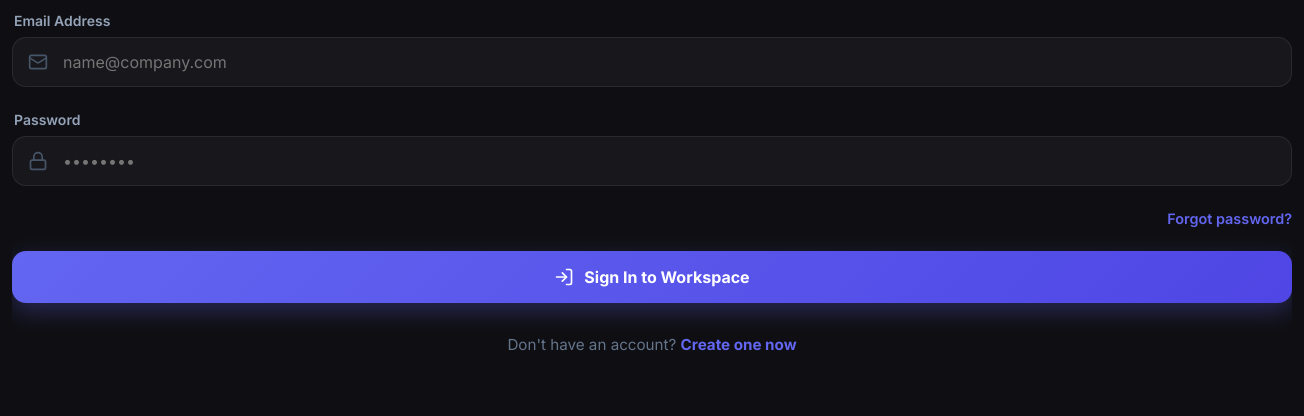
Test case: LoginPage › shows required errors when both fields are empty and form is submitted
Click the button "Sign In to Workspace" at point(652, 277), box 12,251 -> 1292,303
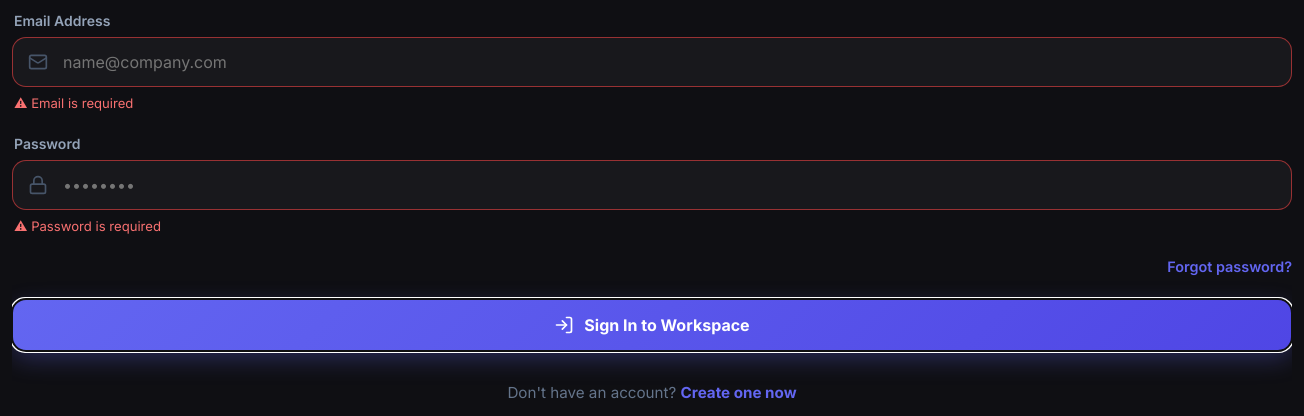
Now the text "⚠ Email is required" is shown, box 14,95 -> 133,111
Now the text "⚠ Password is required" is shown, box 14,218 -> 161,234
